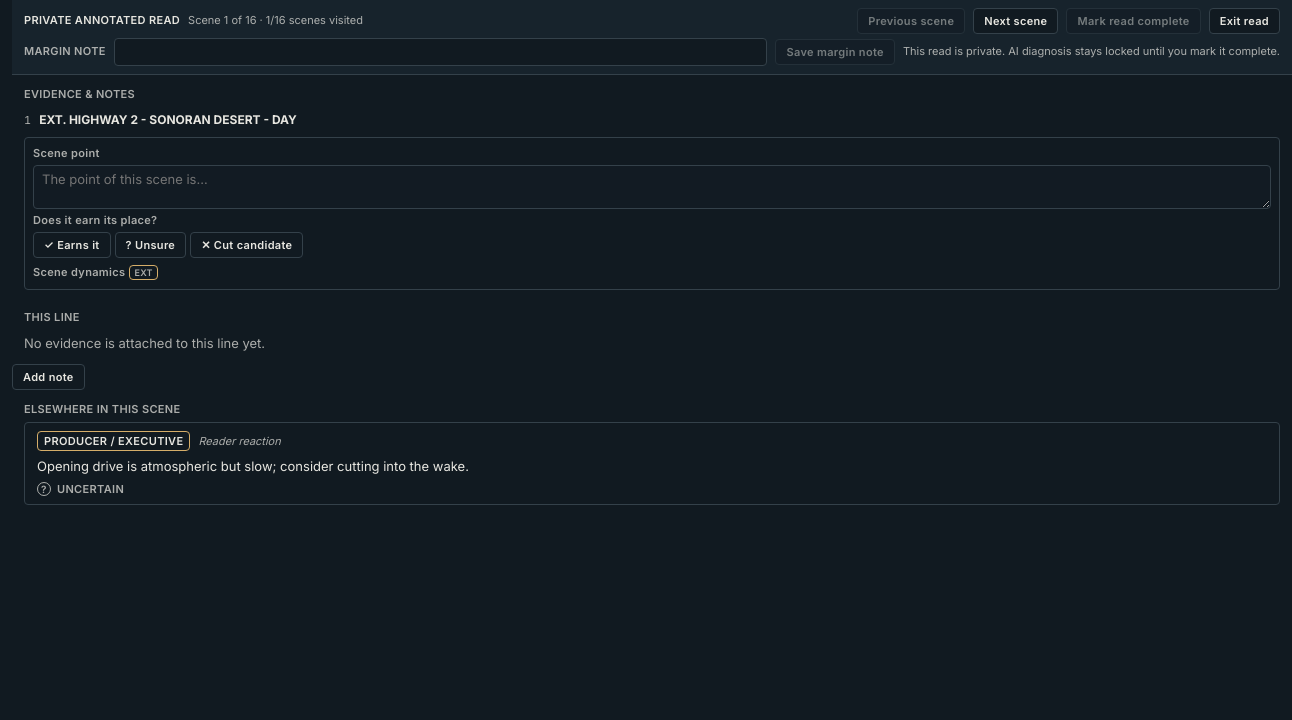
Scenario: annotated read mode › a saved margin note stays a margin note, never re-voiced as a hypothesis
Type "Opening feels slow." into the field labelled "Margin note" at {"x": 441, "y": 52}, box [114, 38, 768, 66]
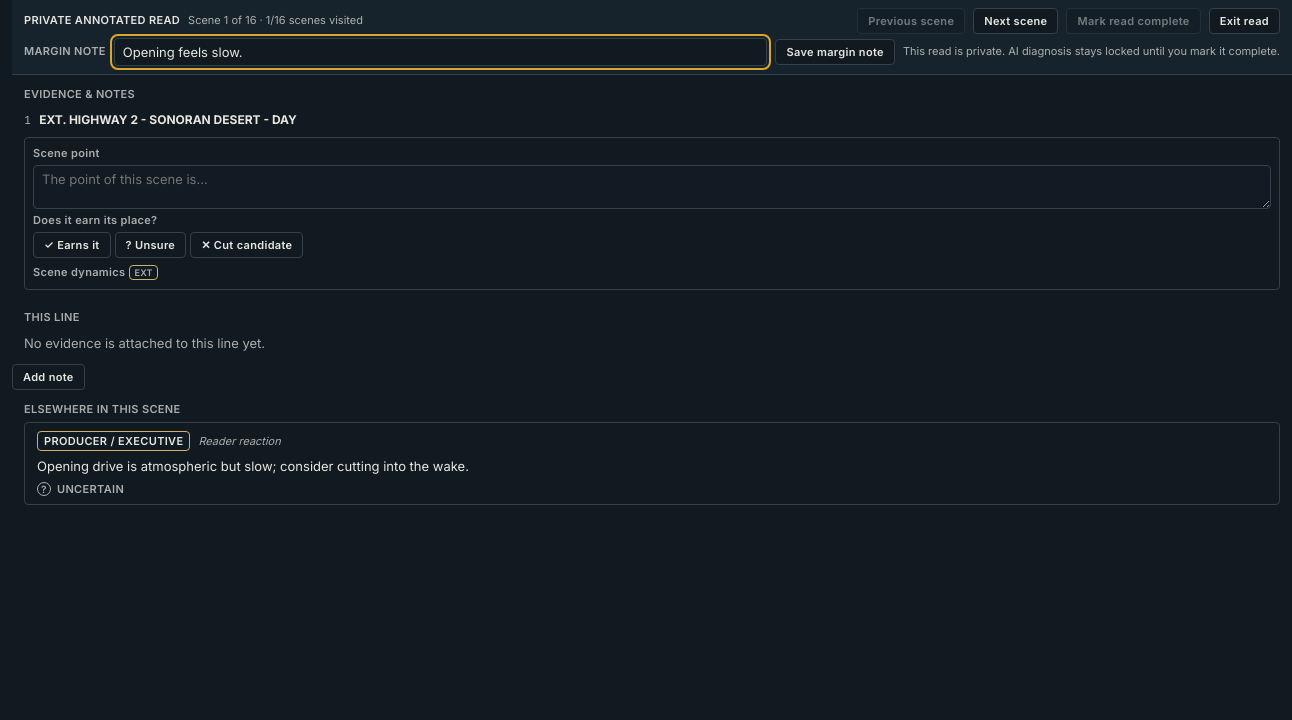
Click the button "Save margin note" at {"x": 835, "y": 52}, box [776, 39, 895, 65]
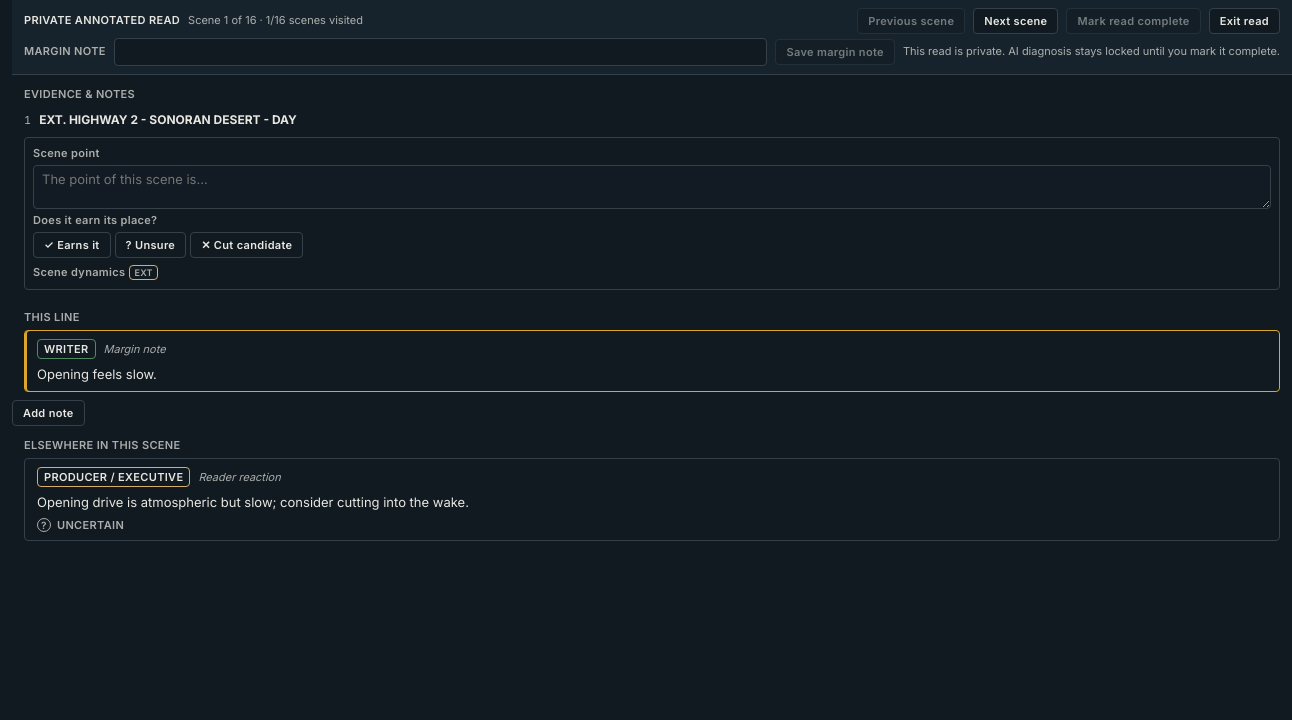
Expected: the text with class "claim-label" reads "Margin note", [104, 342, 166, 356]
